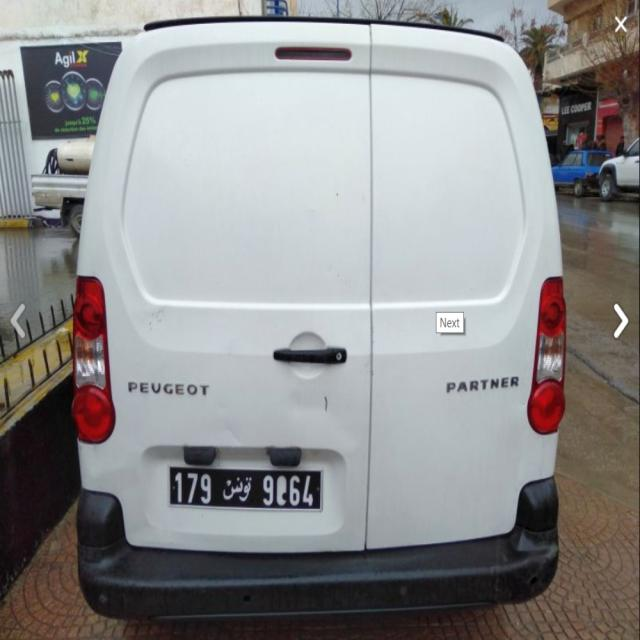LP: (163, 462, 327, 514)
